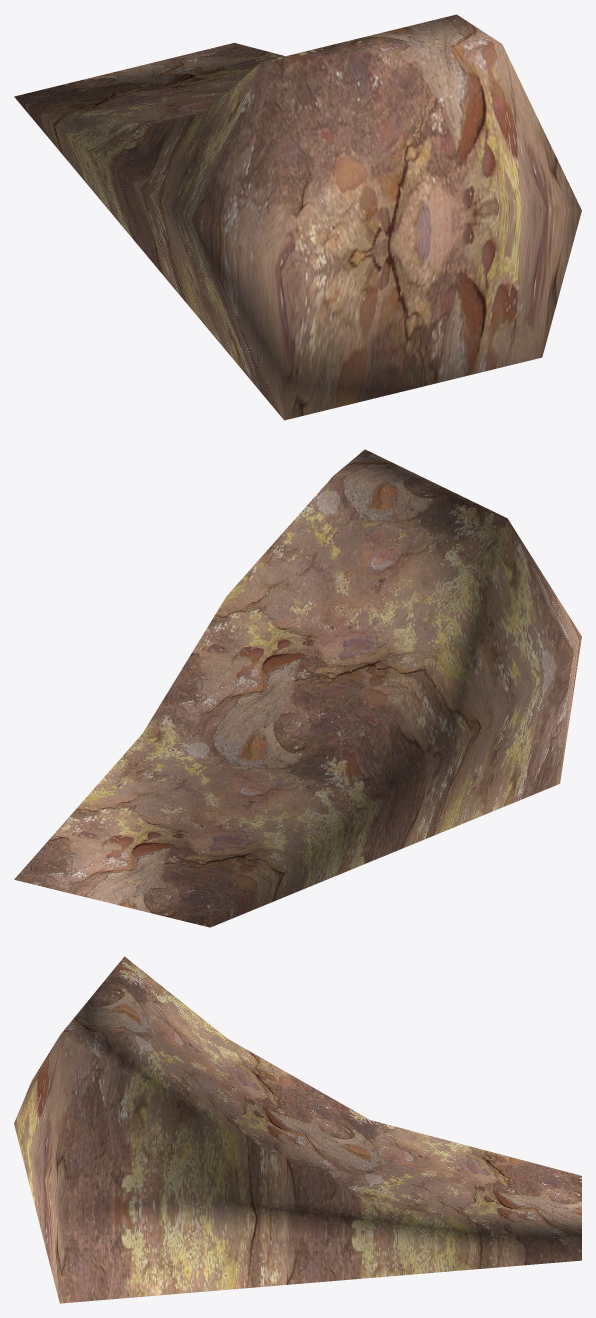
The model's file is rockramp2.fbx.
3 renders of one model, top to bottom at view 1: azimuth 30°, elevation 25°; view 2: azimuth 150°, elevation 25°; view 3: azimuth 270°, elevation 25°, orthographic. The views are drawn at different scales.
Visible parts, largest first — view 1: rockramp2; view 2: rockramp2; view 3: rockramp2.
Part boxes in pixels (x1,y1,x2,y2): rockramp2: [14, 14, 581, 420]; rockramp2: [14, 449, 581, 927]; rockramp2: [14, 956, 581, 1303].
Size of the model in its own units: 35600 by 31300 by 63200.
